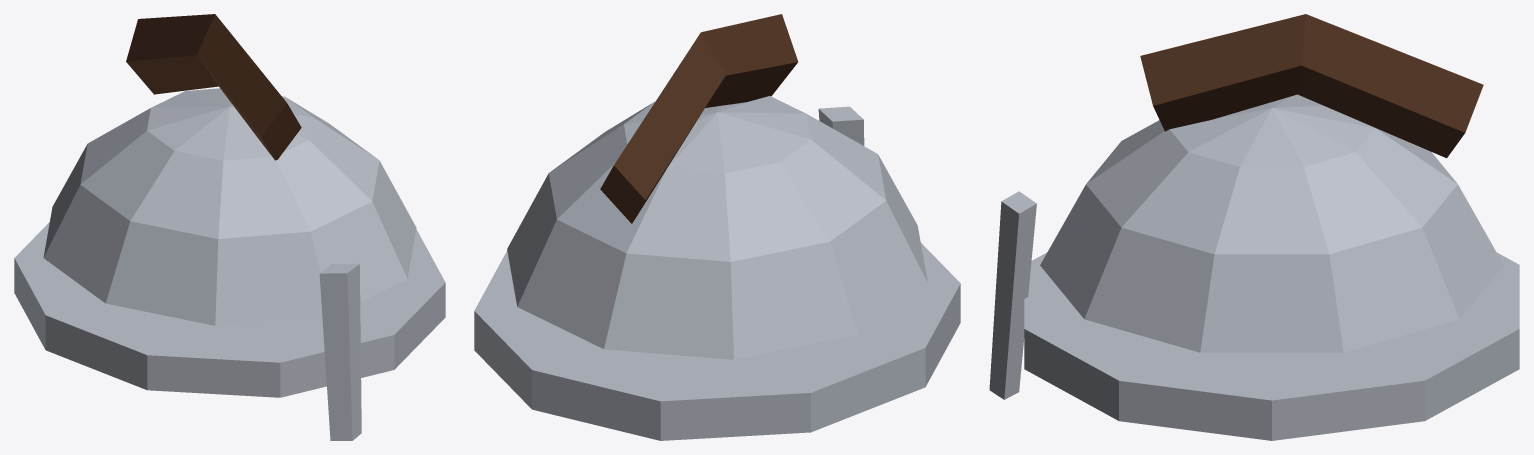
The model's file is armor_helm.glb.
3 views of the same model, side by side, from view 1: azimuth 30°, elevation 25°; view 2: azimuth 150°, elevation 25°; view 3: azimuth 270°, elevation 25° (orthographic). The views are drawn at different scales.
Parts seen in each view (by area): view 1: armor_helm; view 2: armor_helm; view 3: armor_helm.
Part boxes in pixels (bbox=[...]): armor_helm: bbox=[14, 14, 445, 440]; armor_helm: bbox=[474, 14, 960, 440]; armor_helm: bbox=[989, 14, 1519, 440].
Bounding box in the file's own units: 0.33 × 0.2806 × 0.3564.
